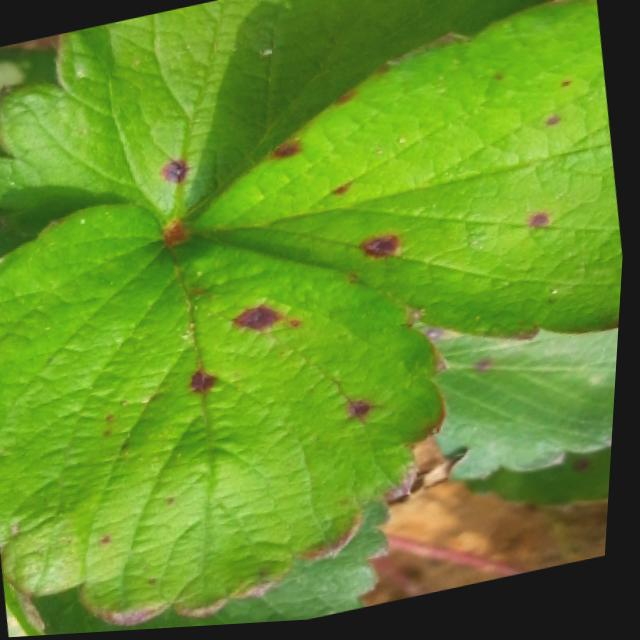Leaf Spot: (0, 204, 457, 628), (185, 2, 626, 347), (0, 0, 555, 238), (437, 337, 623, 488), (471, 455, 617, 518), (0, 222, 31, 258)
